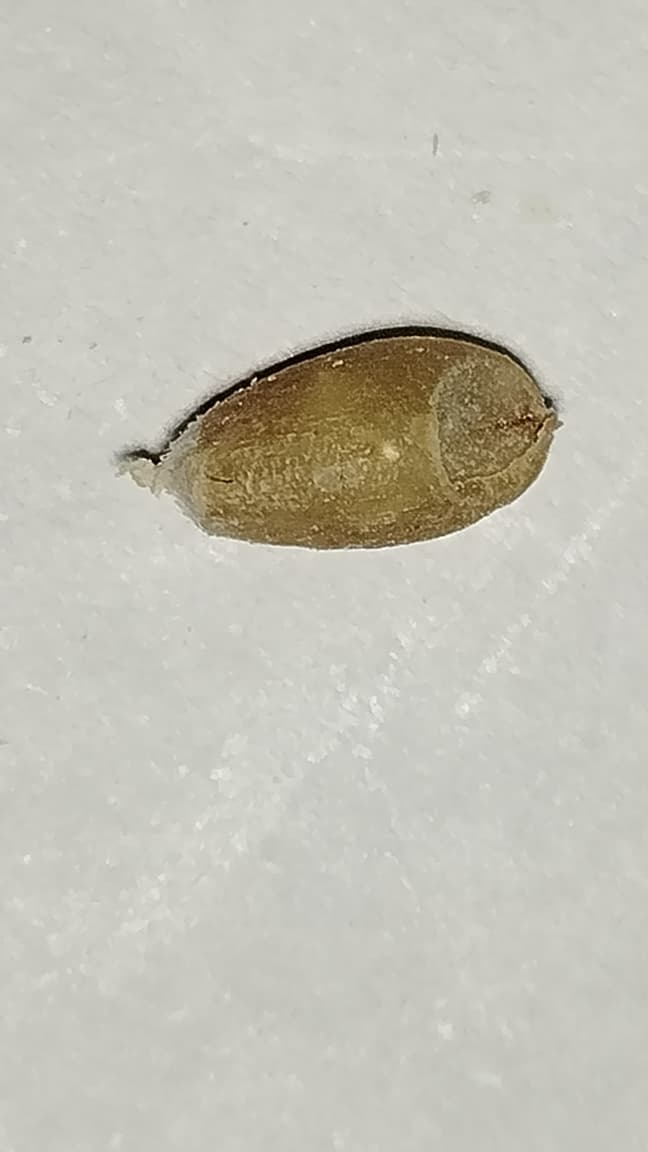damage: (122, 317, 560, 551)
insectdamage: (429, 332, 558, 503)
molddamage: (122, 419, 203, 494)
